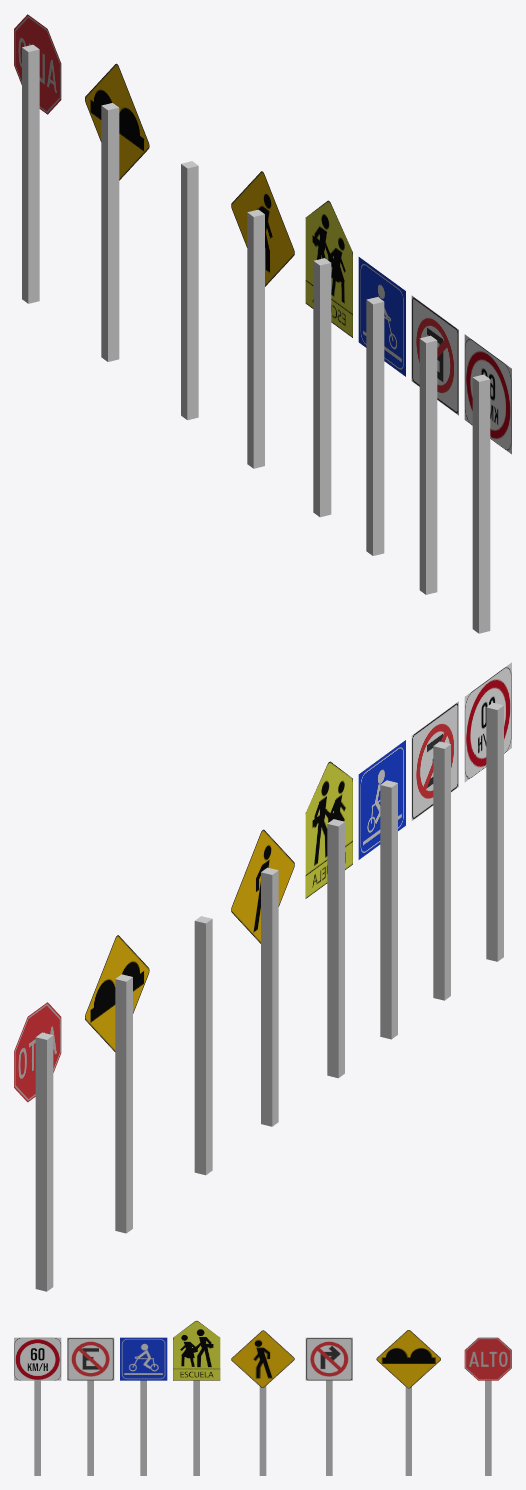
File: Señalamientos.fbx
3 renders of one model, top to bottom at view 1: azimuth 30°, elevation 25°; view 2: azimuth 150°, elevation 25°; view 3: azimuth 270°, elevation 25°, orthographic. The views are drawn at different scales.
Parts seen in each view (by area): view 1: Cube, Cube.003, Cube.001, Cube.006, Cube.002, Cube.004, Cube.007, Cube.005, Plane.003, Plane, Plane.001, Plane.002 (+3 smaller); view 2: Cube.007, Cube.005, Cube.004, Cube, Cube.001, Cube.002, Cube.003, Cube.006, Plane.003, Plane, Plane.002, Plane.001 (+3 smaller); view 3: Plane.003, Plane, Plane.001, Plane.002, Plane.005, Plane.006, Plane.004, Plane.007, Cube.004, Cube, Cube.001, Cube.002 (+4 smaller).
Boxes of the visible parts, x1=… form: Cube: x1=472, y1=374, x2=490, y2=633; Cube.003: x1=313, y1=258, x2=331, y2=517; Cube.001: x1=419, y1=335, x2=437, y2=594; Cube.006: x1=101, y1=103, x2=119, y2=361; Cube.002: x1=366, y1=297, x2=384, y2=555; Cube.004: x1=247, y1=209, x2=264, y2=468; Cube.007: x1=22, y1=44, x2=39, y2=303; Cube.005: x1=181, y1=161, x2=198, y2=420; Plane.003: x1=305, y1=200, x2=352, y2=337; Plane: x1=464, y1=334, x2=511, y2=454; Plane.001: x1=411, y1=295, x2=458, y2=415; Plane.002: x1=358, y1=257, x2=405, y2=376; Cube.007: x1=35, y1=1032, x2=53, y2=1291; Cube.005: x1=194, y1=916, x2=212, y2=1175; Cube.004: x1=261, y1=867, x2=278, y2=1126; Cube: x1=486, y1=702, x2=503, y2=961; Cube.001: x1=433, y1=741, x2=450, y2=1000; Cube.002: x1=380, y1=780, x2=397, y2=1039; Cube.003: x1=327, y1=819, x2=344, y2=1078; Cube.006: x1=115, y1=974, x2=132, y2=1233; Plane.003: x1=305, y1=761, x2=352, y2=898; Plane: x1=464, y1=662, x2=511, y2=782; Plane.002: x1=358, y1=740, x2=405, y2=859; Plane.001: x1=411, y1=701, x2=458, y2=820; Plane.003: x1=173, y1=1320, x2=220, y2=1380; Plane: x1=14, y1=1337, x2=61, y2=1380; Plane.001: x1=67, y1=1337, x2=114, y2=1380; Plane.002: x1=120, y1=1337, x2=167, y2=1380; Plane.005: x1=305, y1=1337, x2=352, y2=1380; Plane.006: x1=376, y1=1330, x2=440, y2=1388; Plane.004: x1=231, y1=1330, x2=294, y2=1387; Plane.007: x1=464, y1=1337, x2=511, y2=1380; Cube.004: x1=259, y1=1386, x2=266, y2=1475; Cube: x1=34, y1=1380, x2=40, y2=1475; Cube.001: x1=87, y1=1380, x2=93, y2=1475; Cube.002: x1=140, y1=1380, x2=146, y2=1475.
Bounding box in the file's own units: 54.58 × 1300 × 3757.
8 materials, 8 textured.
